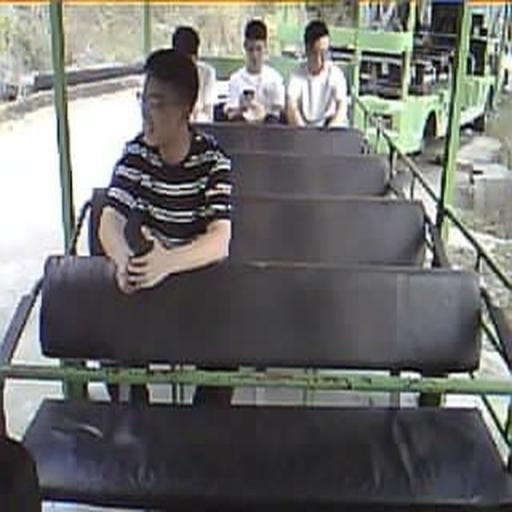persona: (94, 46, 236, 295), (286, 18, 350, 130), (224, 18, 286, 124), (171, 25, 217, 121)
